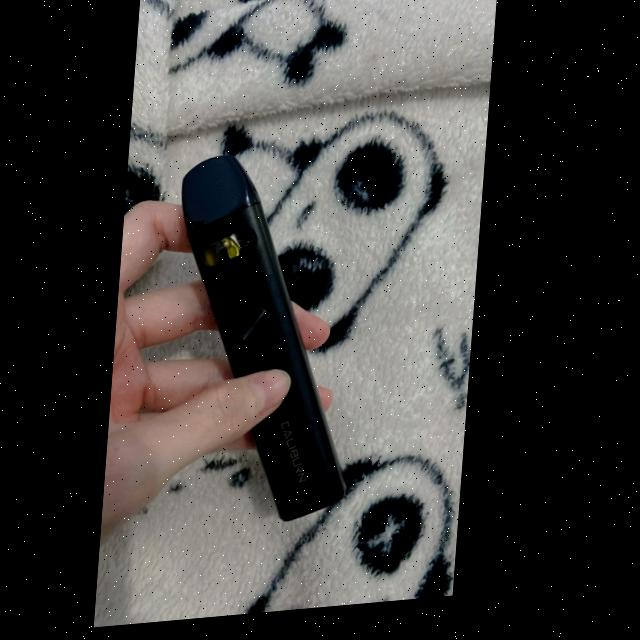vape: (162, 149, 375, 539)
